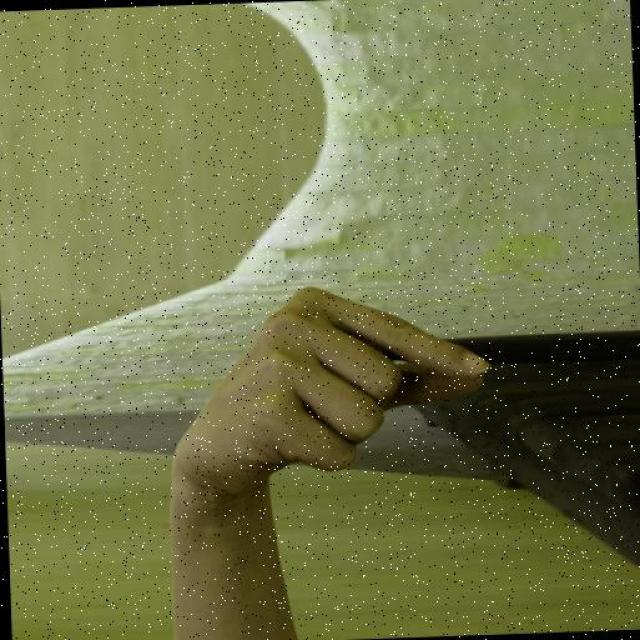G: (158, 275, 499, 503)
